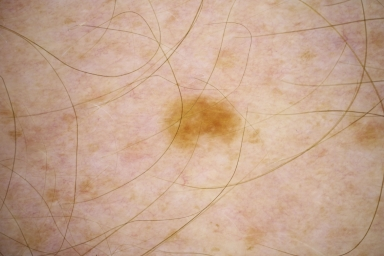melanoma: (166, 96, 240, 153)
